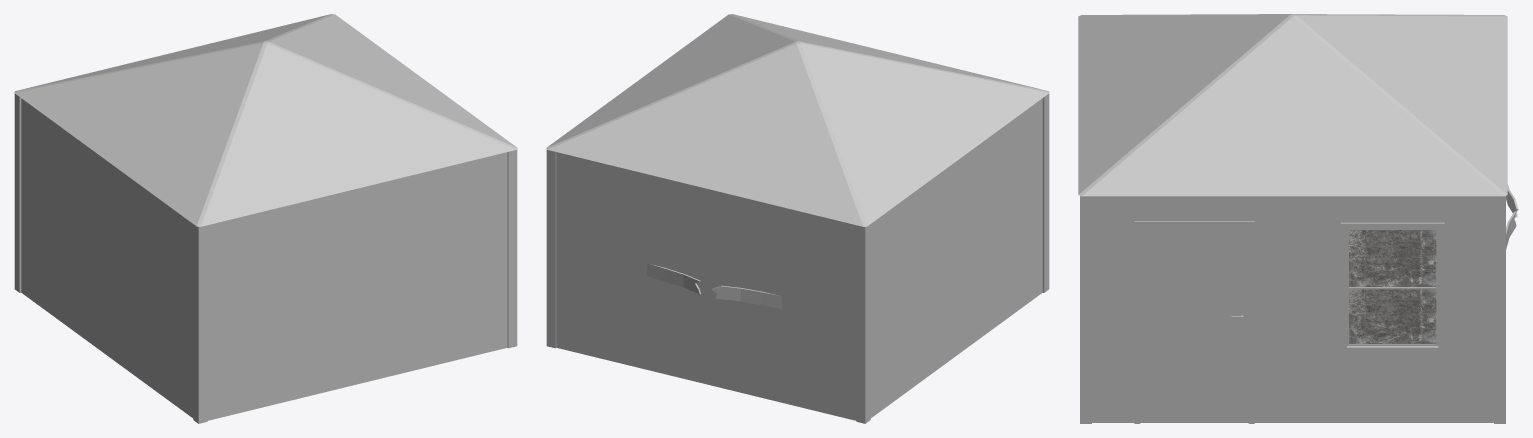
The model's file is Suburbs_shed1.fbx.
The picture shows the model from 3 angles, left to right: view 1: azimuth 30°, elevation 25°; view 2: azimuth 150°, elevation 25°; view 3: azimuth 270°, elevation 25°; orthographic projection. The views are drawn at different scales.
Parts seen in each view (by area): view 1: Shed1, Cube.1226; view 2: Shed1, Cube.1226; view 3: Cube.1226, Shed1, Cube.1805, Plane.579, Plane.576, Plane.577, Cube.1807.
Boxes of the visible parts, x1,y1,x2,y2 form: Shed1: (14, 93, 517, 423); Cube.1226: (14, 14, 517, 226); Shed1: (546, 93, 1049, 423); Cube.1226: (546, 14, 1049, 226); Cube.1226: (1078, 14, 1507, 196); Shed1: (1080, 184, 1518, 423); Cube.1805: (1140, 227, 1248, 421); Plane.579: (1349, 230, 1436, 286); Plane.576: (1349, 289, 1436, 343); Plane.577: (1349, 310, 1435, 343); Cube.1807: (1347, 289, 1438, 345).
Bounding box in the file's own units: 428 × 350 × 438.
